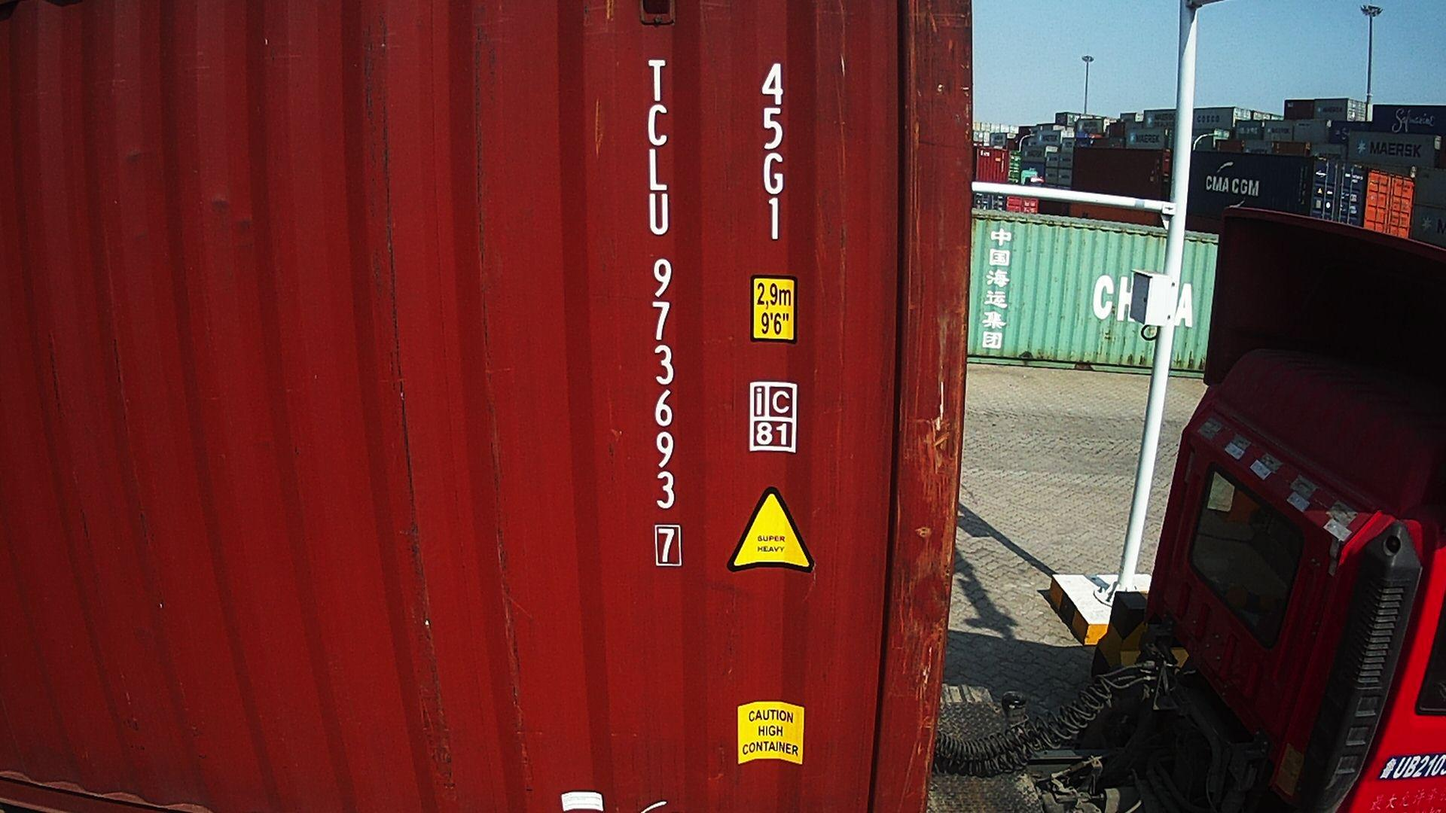container-numbers: (639, 53, 685, 574), (755, 59, 793, 248)
